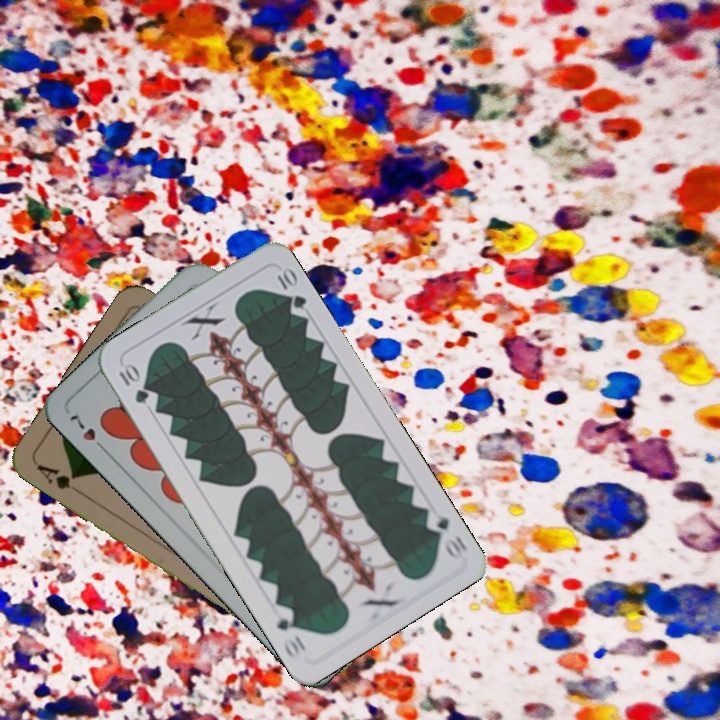G10: (421, 506, 470, 561), (114, 359, 152, 406)
GA: (32, 460, 85, 498)
H7: (65, 410, 111, 456)
